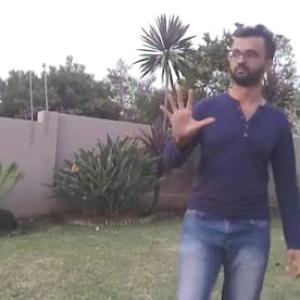follow_hand: (157, 83, 216, 141)
